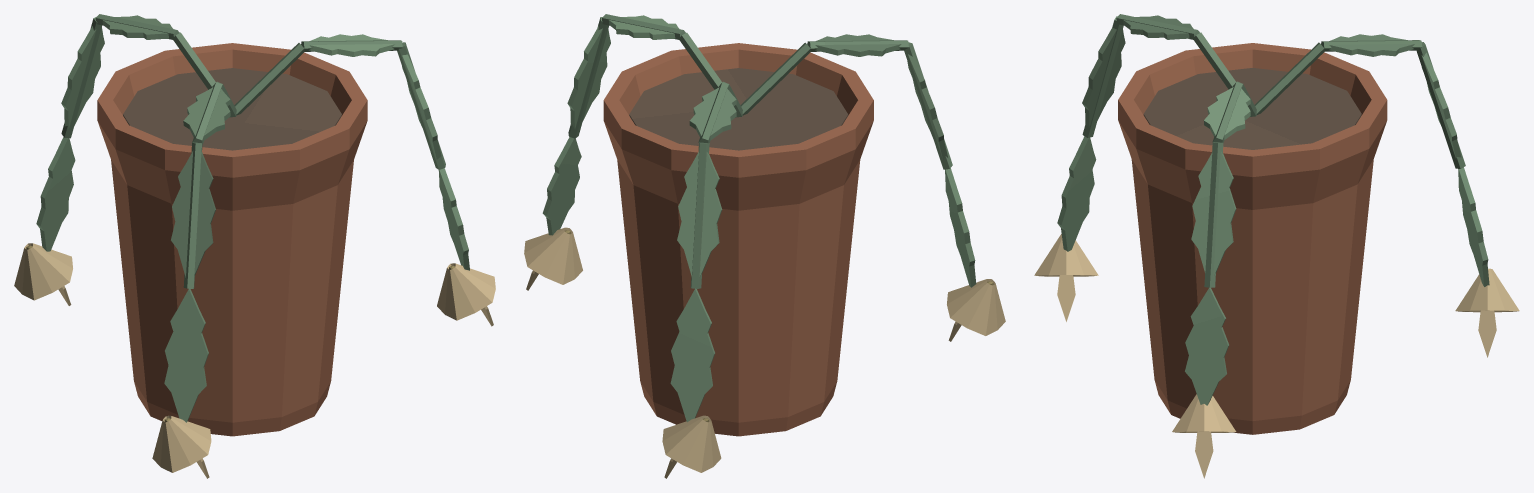
Rendered from new-truncata.glb.
3 renders of one model, left to right at view 1: azimuth 30°, elevation 25°; view 2: azimuth 150°, elevation 25°; view 3: azimuth 270°, elevation 25°, orthographic.
Visible parts, largest first — view 1: new-truncata/review-terra-vessel, new-truncata/review-rooted-soil, new-truncata/flattened-stem-segment-005, new-truncata/flattened-stem-segment-003, new-truncata/flattened-stem-segment-023, new-truncata/hollow-corolla-007, new-truncata/hollow-corolla-016, new-truncata/hollow-corolla-025, new-truncata/flattened-stem-segment-021, new-truncata/petiole-006, new-truncata/flattened-stem-segment-001, new-truncata/flattened-stem-segment-014 (+10 smaller); view 2: new-truncata/review-terra-vessel, new-truncata/review-rooted-soil, new-truncata/flattened-stem-segment-023, new-truncata/flattened-stem-segment-021, new-truncata/hollow-corolla-025, new-truncata/hollow-corolla-007, new-truncata/hollow-corolla-016, new-truncata/flattened-stem-segment-014, new-truncata/flattened-stem-segment-012, new-truncata/flattened-stem-segment-005, new-truncata/flattened-stem-segment-019, new-truncata/petiole-024 (+10 smaller); view 3: new-truncata/review-terra-vessel, new-truncata/review-rooted-soil, new-truncata/flattened-stem-segment-014, new-truncata/flattened-stem-segment-012, new-truncata/flattened-stem-segment-005, new-truncata/flattened-stem-segment-003, new-truncata/hollow-corolla-025, new-truncata/flattened-stem-segment-023, new-truncata/hollow-corolla-007, new-truncata/hollow-corolla-016, new-truncata/petiole-015, new-truncata/flattened-stem-segment-010 (+13 smaller).
Part boxes in pixels (bbox=[...]): new-truncata/review-terra-vessel: bbox=[97, 43, 367, 436]; new-truncata/review-rooted-soil: bbox=[123, 68, 341, 150]; new-truncata/flattened-stem-segment-005: bbox=[164, 288, 208, 422]; new-truncata/flattened-stem-segment-003: bbox=[171, 151, 215, 277]; new-truncata/flattened-stem-segment-023: bbox=[36, 137, 75, 251]; new-truncata/hollow-corolla-007: bbox=[152, 415, 211, 472]; new-truncata/hollow-corolla-016: bbox=[437, 263, 495, 320]; new-truncata/hollow-corolla-025: bbox=[14, 243, 72, 300]; new-truncata/flattened-stem-segment-021: bbox=[61, 26, 104, 128]; new-truncata/petiole-006: bbox=[183, 142, 202, 288]; new-truncata/flattened-stem-segment-001: bbox=[183, 87, 230, 140]; new-truncata/flattened-stem-segment-014: bbox=[438, 168, 469, 270]; new-truncata/review-terra-vessel: bbox=[603, 43, 873, 436]; new-truncata/review-rooted-soil: bbox=[629, 68, 848, 150]; new-truncata/flattened-stem-segment-023: bbox=[670, 288, 714, 422]; new-truncata/flattened-stem-segment-021: bbox=[677, 152, 722, 277]; new-truncata/hollow-corolla-025: bbox=[662, 415, 721, 472]; new-truncata/hollow-corolla-007: bbox=[947, 279, 1005, 335]; new-truncata/hollow-corolla-016: bbox=[524, 227, 582, 284]; new-truncata/flattened-stem-segment-014: bbox=[542, 137, 581, 235]; new-truncata/flattened-stem-segment-012: bbox=[567, 26, 610, 128]; new-truncata/flattened-stem-segment-005: bbox=[945, 168, 976, 287]; new-truncata/flattened-stem-segment-019: bbox=[689, 87, 736, 140]; new-truncata/petiole-024: bbox=[690, 142, 709, 288]; new-truncata/review-terra-vessel: bbox=[1118, 43, 1387, 434]; new-truncata/review-rooted-soil: bbox=[1143, 68, 1361, 149]; new-truncata/flattened-stem-segment-014: bbox=[1185, 288, 1228, 405]; new-truncata/flattened-stem-segment-012: bbox=[1191, 151, 1236, 276]; new-truncata/flattened-stem-segment-005: bbox=[1057, 136, 1096, 251]; new-truncata/flattened-stem-segment-003: bbox=[1082, 28, 1125, 127]; new-truncata/hollow-corolla-025: bbox=[1455, 268, 1519, 312]; new-truncata/flattened-stem-segment-023: bbox=[1458, 167, 1489, 286]; new-truncata/hollow-corolla-007: bbox=[1034, 234, 1098, 276]; new-truncata/hollow-corolla-016: bbox=[1172, 394, 1236, 432]; new-truncata/petiole-015: bbox=[1204, 142, 1223, 287]; new-truncata/flattened-stem-segment-010: bbox=[1203, 87, 1250, 139].
Size of the model in its own units: 0.3274 by 0.2678 by 0.3429.
Materials: 5 (5 with a texture image).
